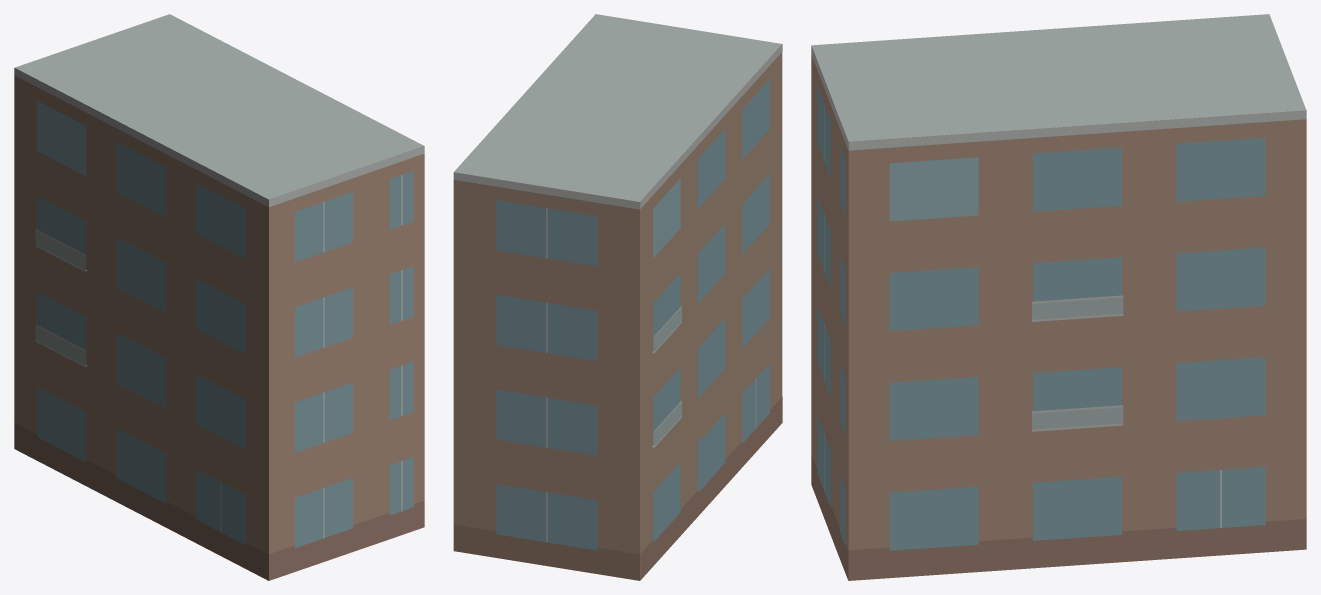
The model's file is residential-0cb80897-3c26-43dd-94a8-56e7a75a5ca3.glb.
3 renders of one model, left to right at view 1: azimuth 30°, elevation 25°; view 2: azimuth 150°, elevation 25°; view 3: azimuth 270°, elevation 25°, orthographic. The views are drawn at different scales.
Parts seen in each view (by area): view 1: residential-0cb80897-3c26-43dd-94a8-56e7a75a5ca3.tmp; view 2: residential-0cb80897-3c26-43dd-94a8-56e7a75a5ca3.tmp; view 3: residential-0cb80897-3c26-43dd-94a8-56e7a75a5ca3.tmp.
Boxes of the visible parts, x1,y1,x2,y2 form: residential-0cb80897-3c26-43dd-94a8-56e7a75a5ca3.tmp: [14, 14, 424, 580]; residential-0cb80897-3c26-43dd-94a8-56e7a75a5ca3.tmp: [453, 14, 782, 580]; residential-0cb80897-3c26-43dd-94a8-56e7a75a5ca3.tmp: [811, 14, 1306, 580].
Bounding box in the file's own units: 7.62 × 12.2 × 12.48.
